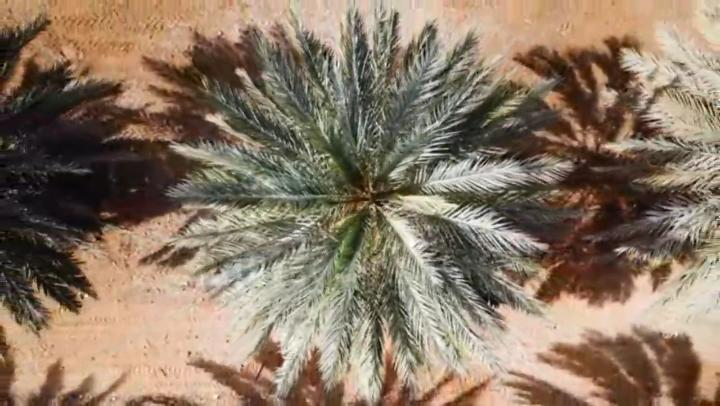Date-Palm-Crown: (282, 101, 454, 284)
